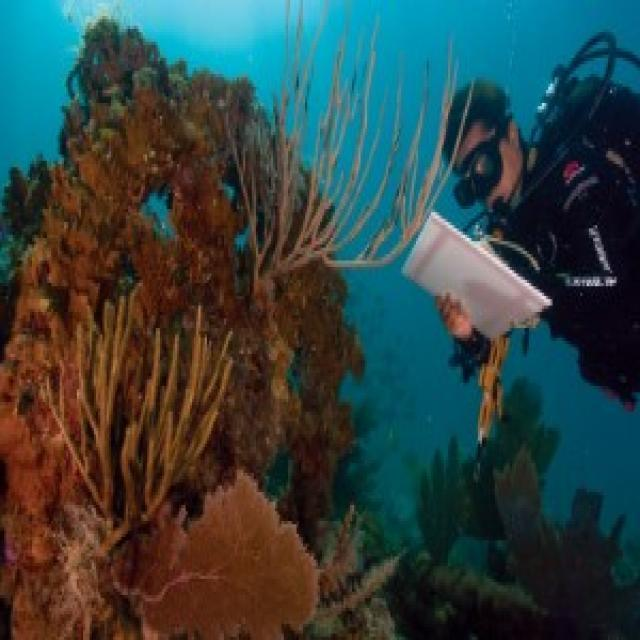Bleached: (231, 15, 469, 329)
Healthy: (1, 41, 270, 387), (131, 464, 334, 640)
